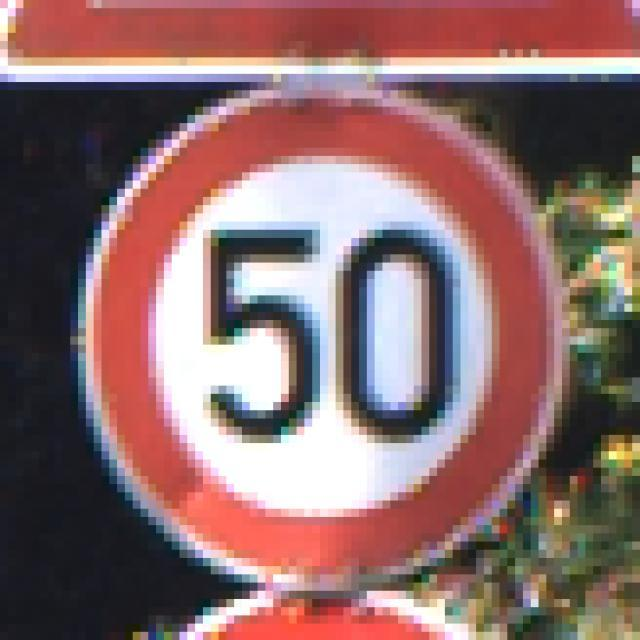speed limit 50: (71, 82, 577, 596)
